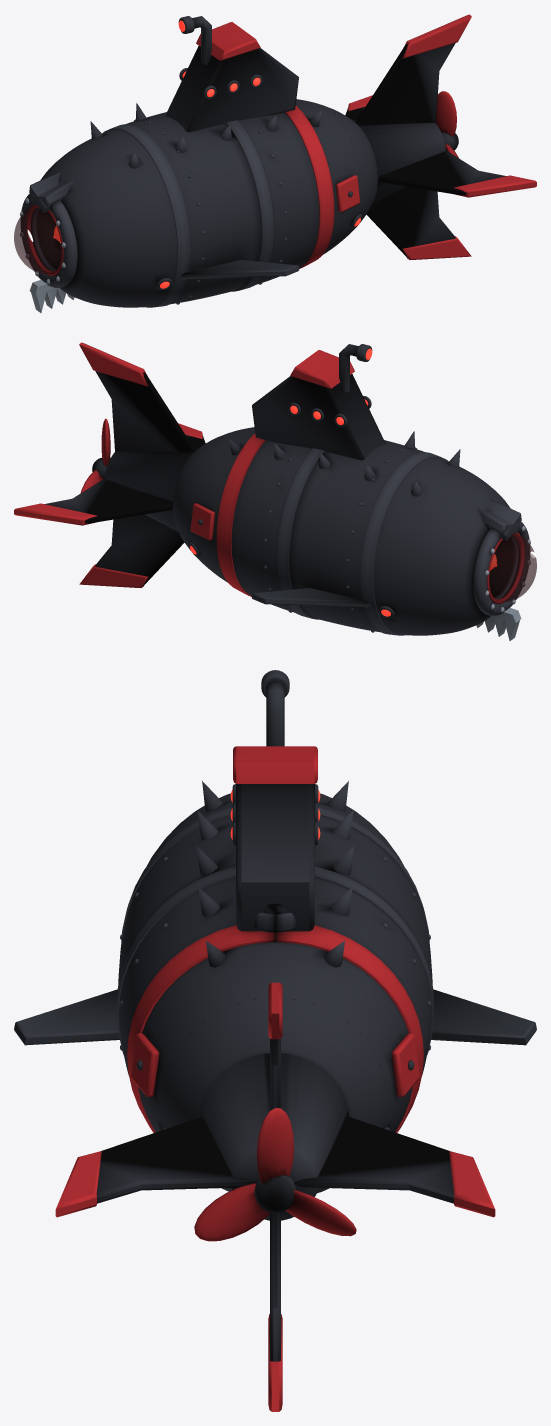
Rendered from enemy_boss.glb.
3 views of the same model, one above another, from view 1: azimuth 30°, elevation 25°; view 2: azimuth 150°, elevation 25°; view 3: azimuth 270°, elevation 25° (orthographic). The views are drawn at different scales.
Visible parts, largest first — view 1: enemy_boss_body, propeller.002; view 2: enemy_boss_body, propeller.002; view 3: enemy_boss_body, propeller.002.
Part boxes in pixels (box(x1,y1,x2,y2)): enemy_boss_body: box(14, 14, 536, 312); propeller.002: box(436, 91, 458, 157); enemy_boss_body: box(14, 342, 536, 640); propeller.002: box(80, 418, 110, 493); enemy_boss_body: box(14, 670, 536, 1411); propeller.002: box(194, 1108, 356, 1241).
Bounding box in the file's own units: 7.96 × 5.18 × 4.82.
